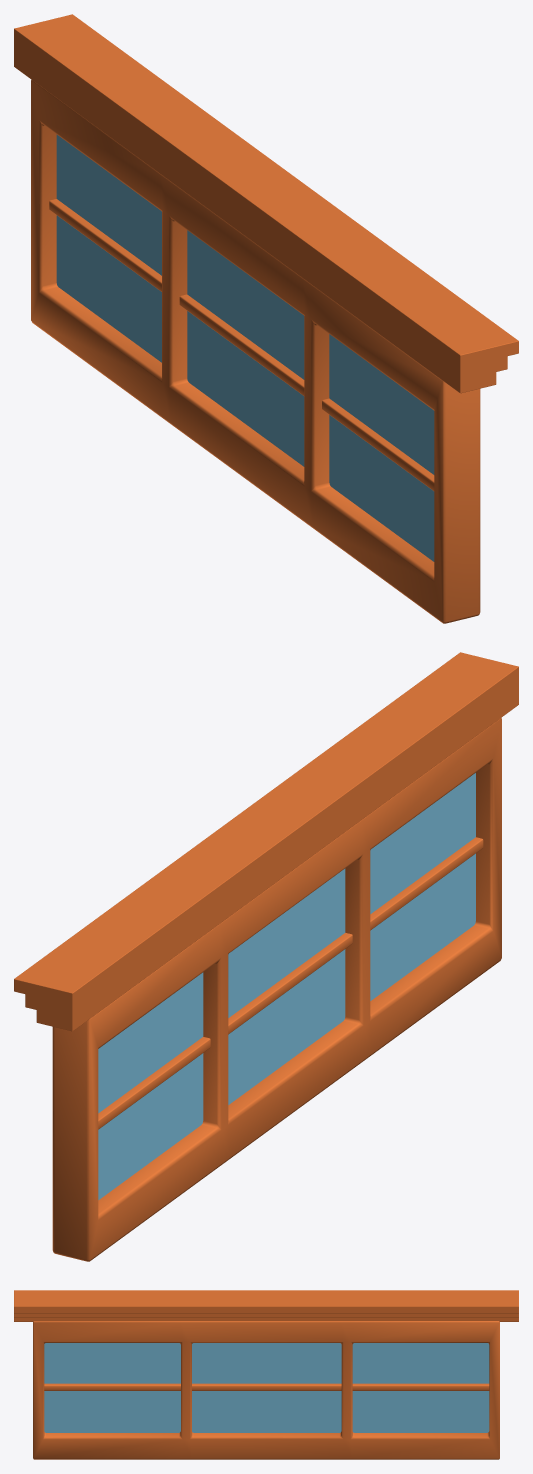
Rendered from FM_H_SH_01_Win_001.fbx.
3 renders of one model, top to bottom at view 1: azimuth 30°, elevation 25°; view 2: azimuth 150°, elevation 25°; view 3: azimuth 270°, elevation 25°, orthographic. The views are drawn at different scales.
Parts seen in each view (by area): view 1: FM_H_SH_01_Win_001; view 2: FM_H_SH_01_Win_001; view 3: FM_H_SH_01_Win_001.
Boxes of the visible parts, bbox=[...] form: FM_H_SH_01_Win_001: bbox=[14, 14, 518, 623]; FM_H_SH_01_Win_001: bbox=[14, 652, 518, 1261]; FM_H_SH_01_Win_001: bbox=[14, 1290, 518, 1459].
Size of the model in its own units: 0.3861 by 1.77 by 5.06.
